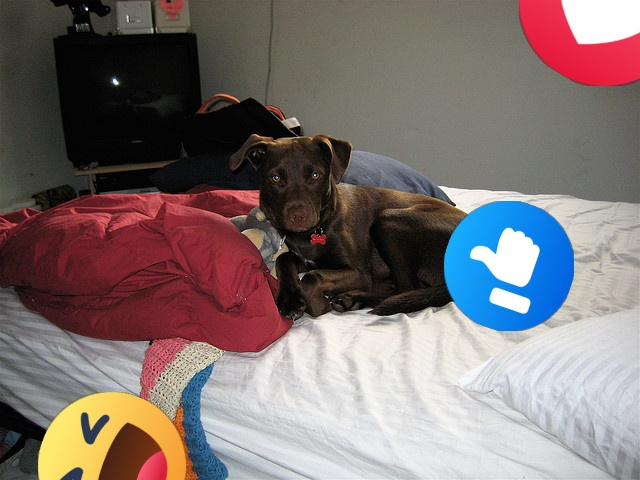haha: (38, 392, 186, 480)
like: (444, 201, 574, 331)
love: (519, 0, 640, 86)
